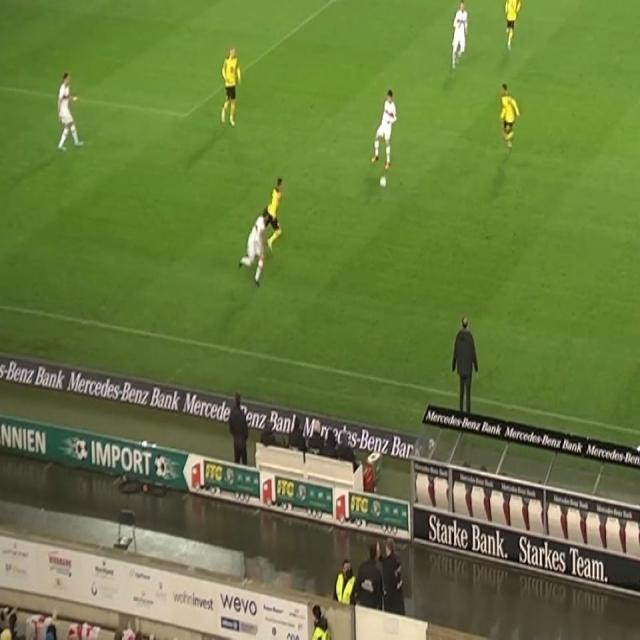ball: (379, 174, 387, 190)
